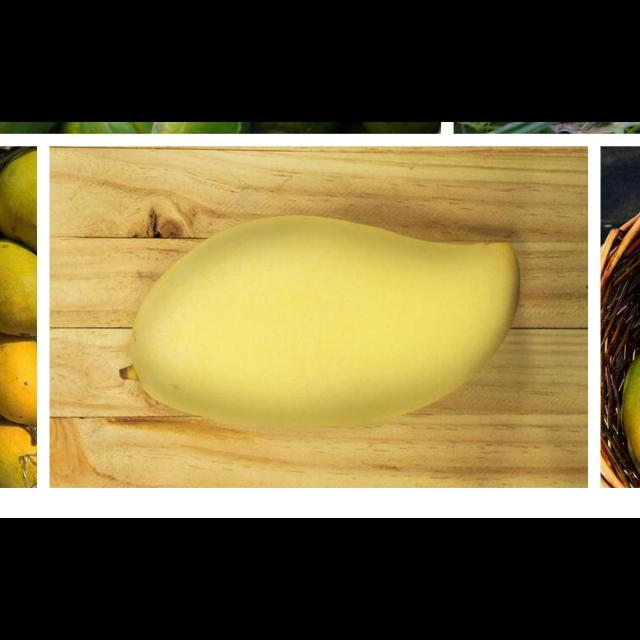mango: (133, 213, 519, 426)
